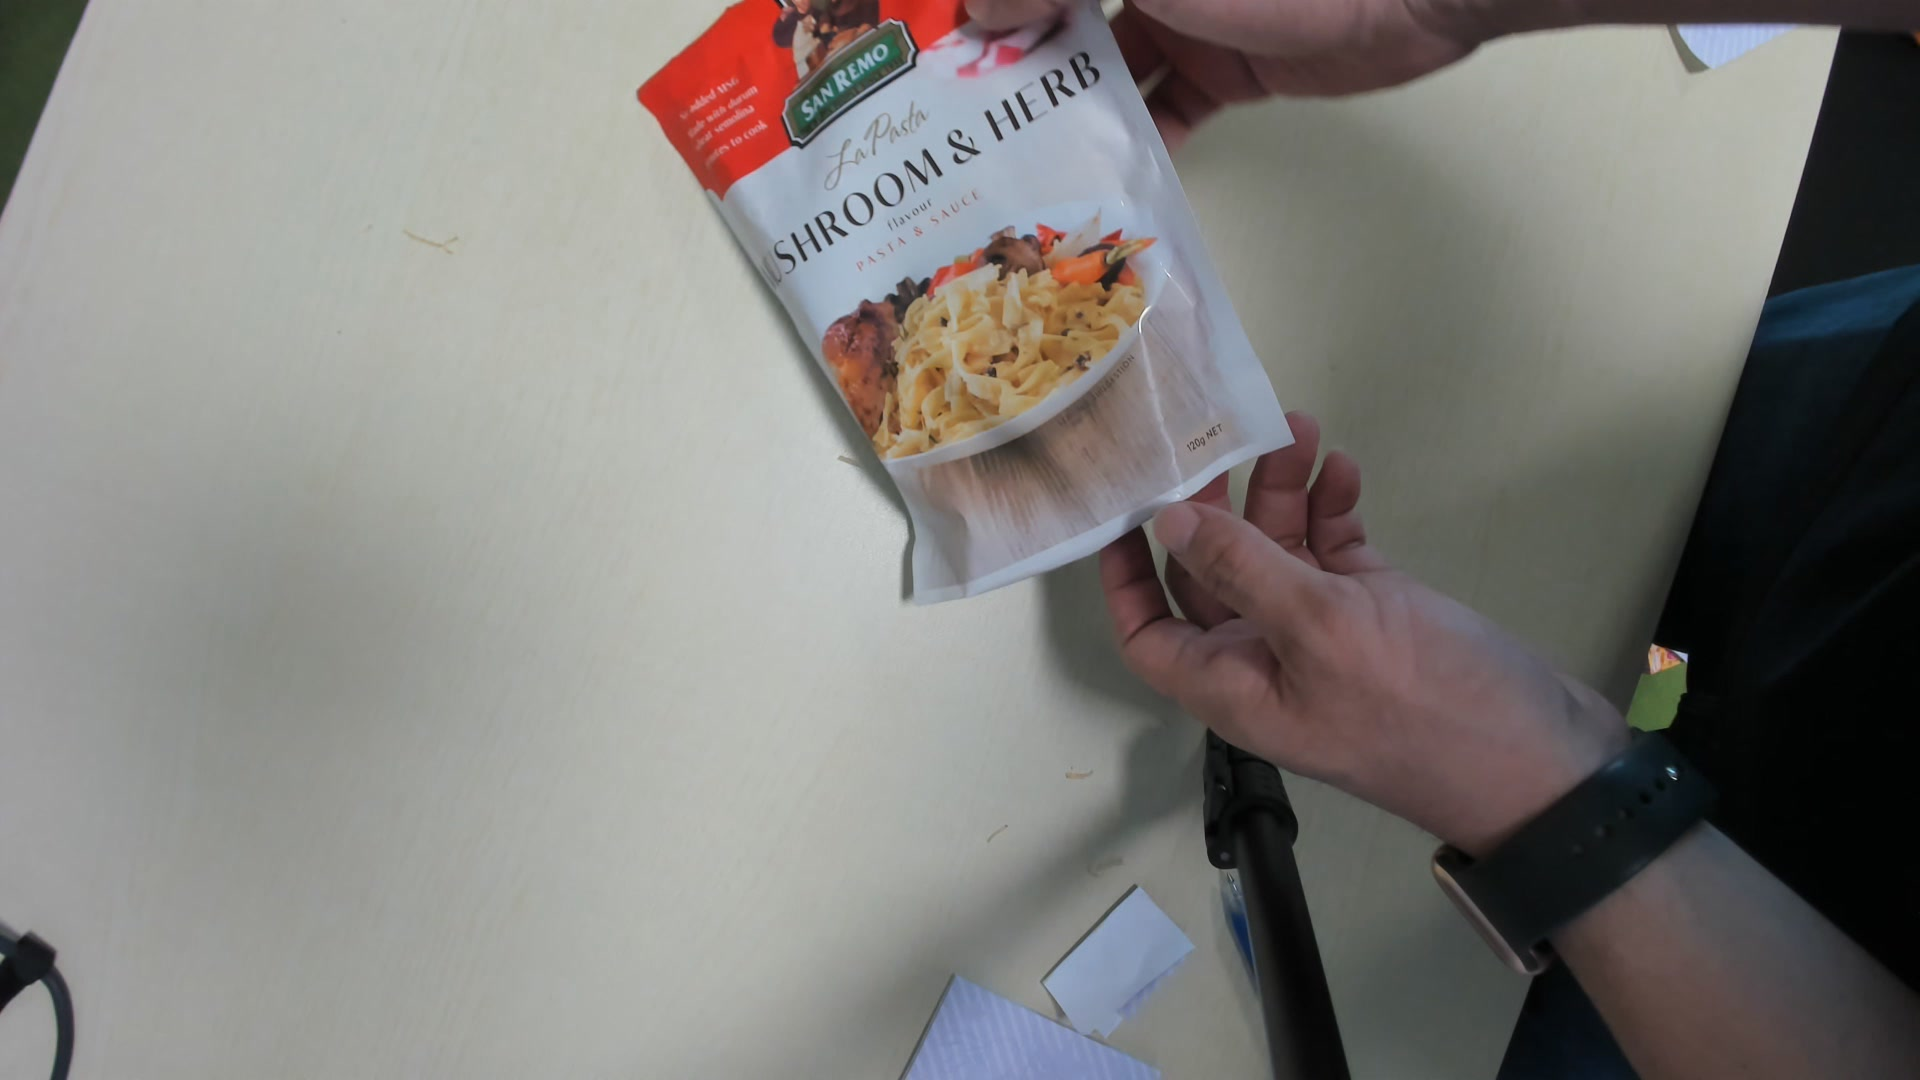InstantMeals_100-199g_NonHalal_Healthy: (636, 3, 1288, 607)
